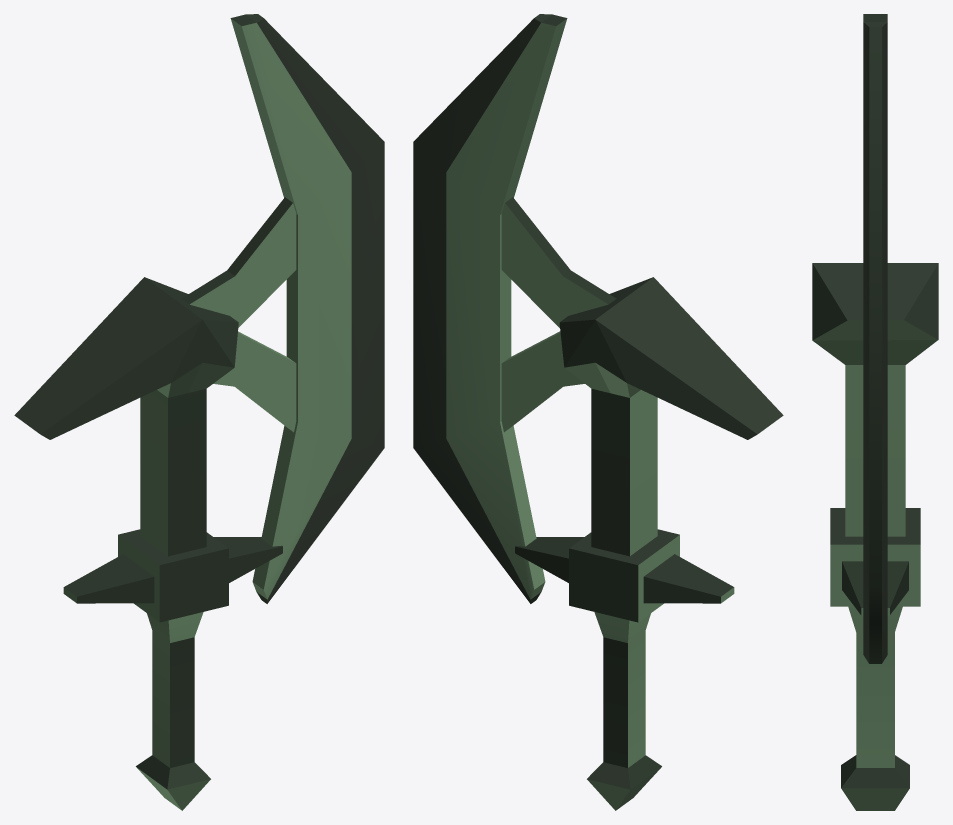
Rendered from SF_Wep_Undead_Axe_01.glb.
3 renders of one model, left to right at view 1: azimuth 30°, elevation 25°; view 2: azimuth 150°, elevation 25°; view 3: azimuth 270°, elevation 25°, orthographic. The views are drawn at different scales.
Visible parts, largest first — view 1: SF_Wep_Undead_Axe_01; view 2: SF_Wep_Undead_Axe_01; view 3: SF_Wep_Undead_Axe_01.
Part boxes in pixels (left/top/right/bottom): SF_Wep_Undead_Axe_01: left=14, top=14, right=384, bottom=810; SF_Wep_Undead_Axe_01: left=413, top=14, right=783, bottom=810; SF_Wep_Undead_Axe_01: left=812, top=14, right=938, bottom=810.
Bounding box in the file's own units: 0.00817 × 0.0169 × 0.00233.
Materials: 1 (1 with a texture image).
